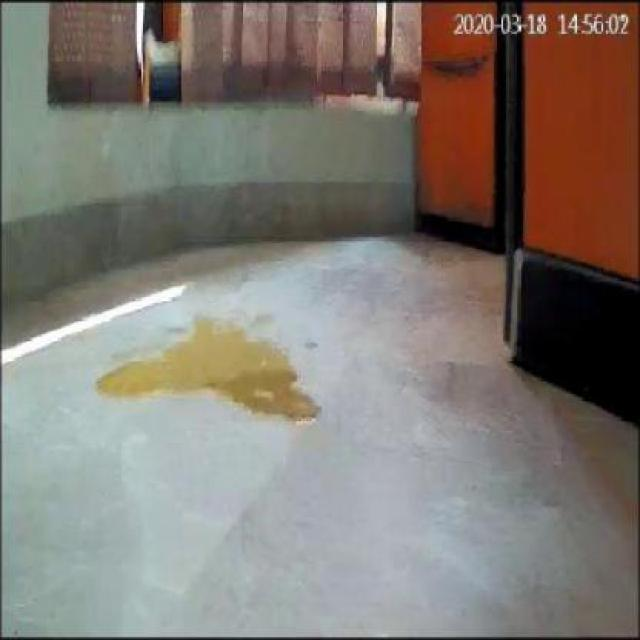spillage: (95, 318, 320, 424)
